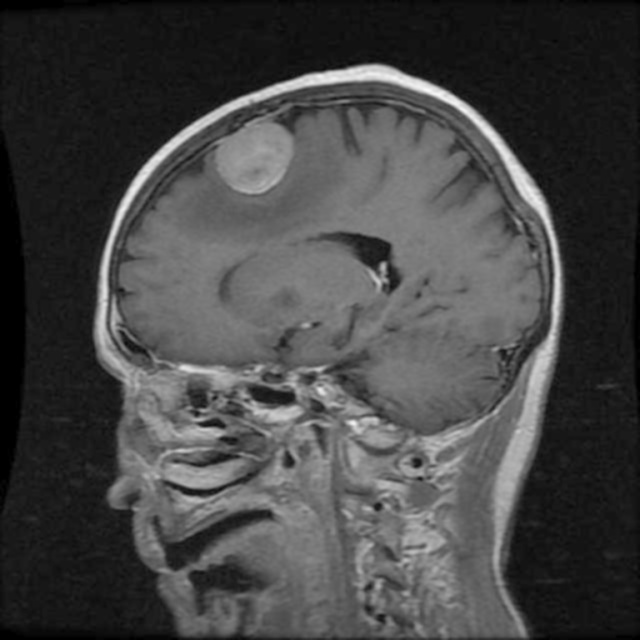meningioma tumor: (192, 110, 308, 202)
